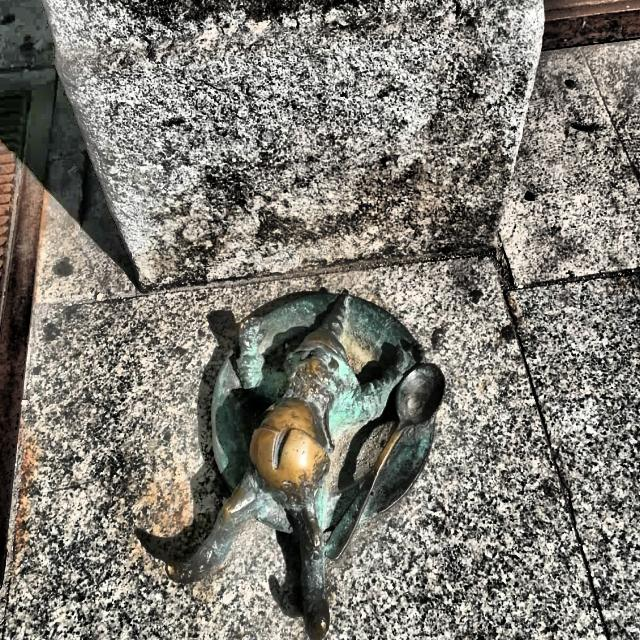Obiezysmak: (180, 293, 445, 640)
